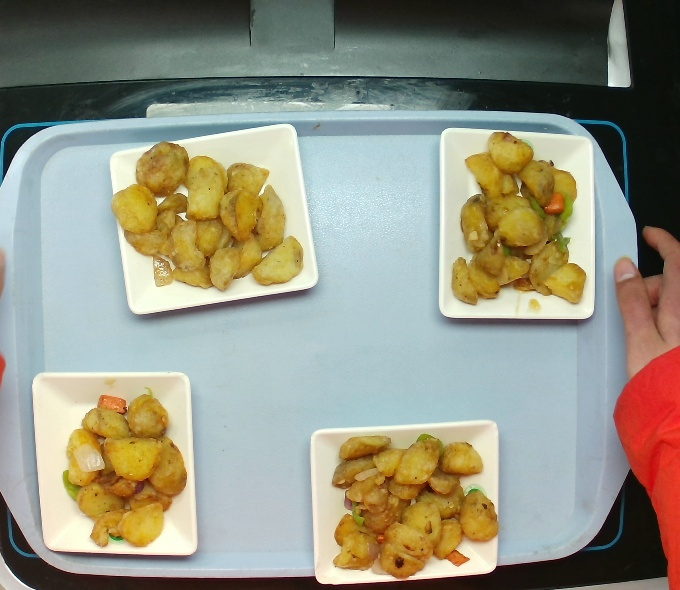wcq-TuDouZai: (116, 137, 306, 301), (442, 121, 592, 325), (325, 430, 494, 584), (58, 391, 186, 539)
